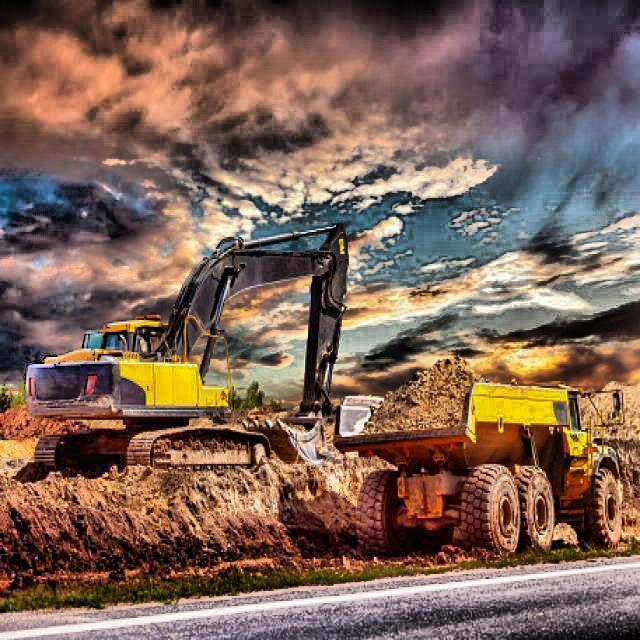excavator: (22, 226, 350, 472)
